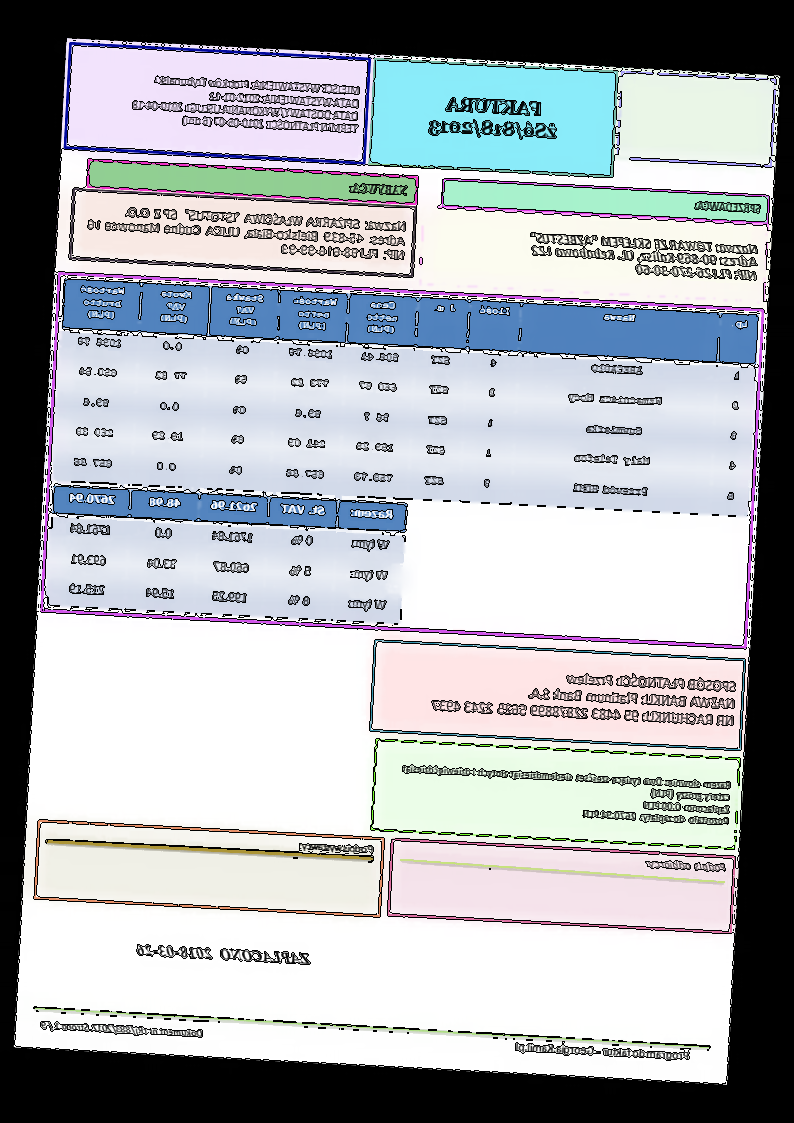Table: (52, 277, 761, 518), (47, 484, 409, 624)
TextBox: (398, 762, 733, 827), (429, 660, 738, 730), (85, 203, 409, 263), (130, 70, 363, 137), (529, 231, 761, 283), (426, 93, 562, 144), (134, 940, 314, 968), (514, 1039, 691, 1063), (39, 1018, 205, 1042), (643, 856, 729, 877), (299, 840, 376, 857), (693, 198, 765, 216), (348, 181, 410, 199)
